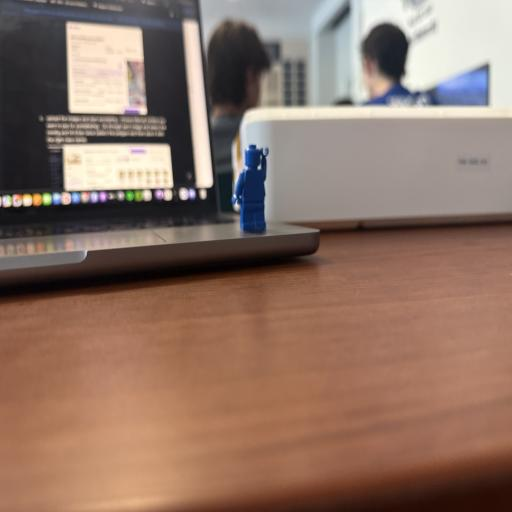Minifig: (234, 145, 266, 229)
